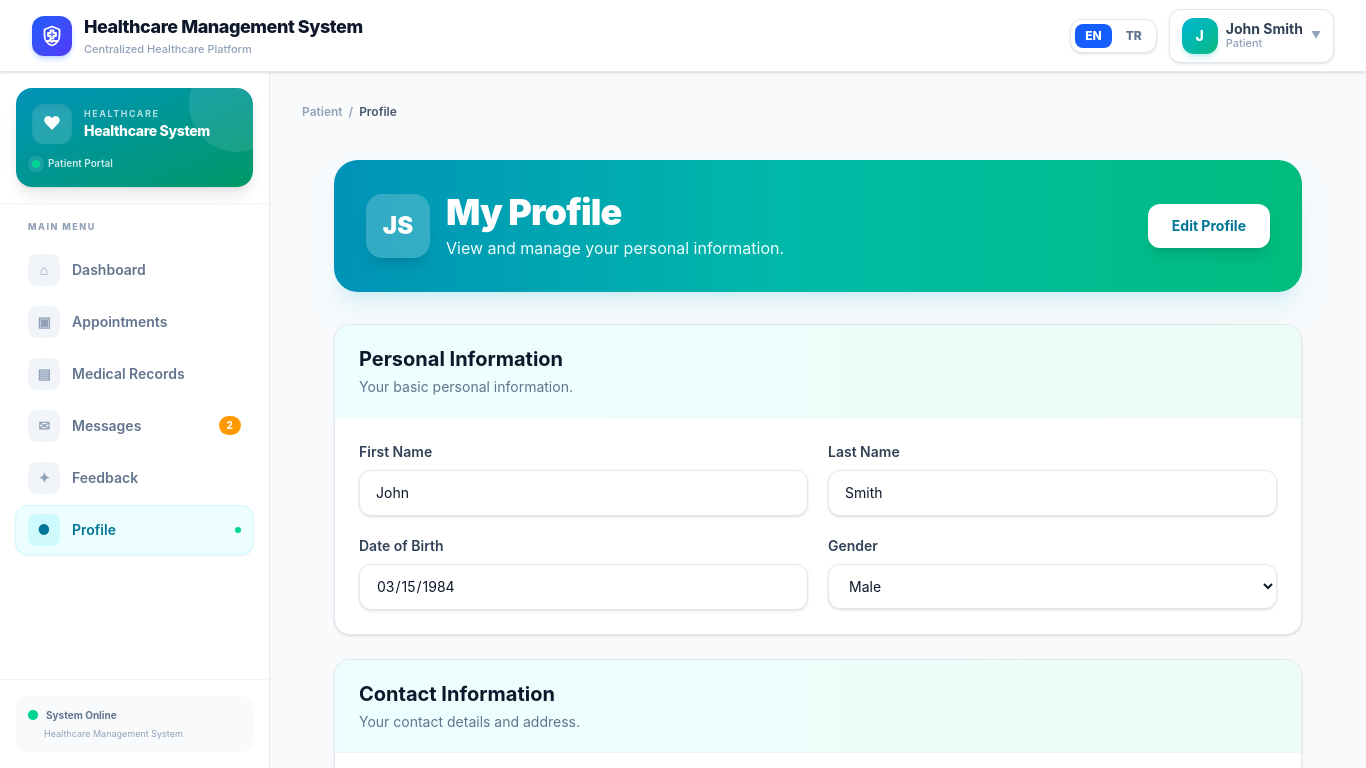
W114 loading, empty, success and error states › shows inline errors for invalid profile data
Click the button "Edit Profile": (1209,226) [1148, 204, 1270, 248]
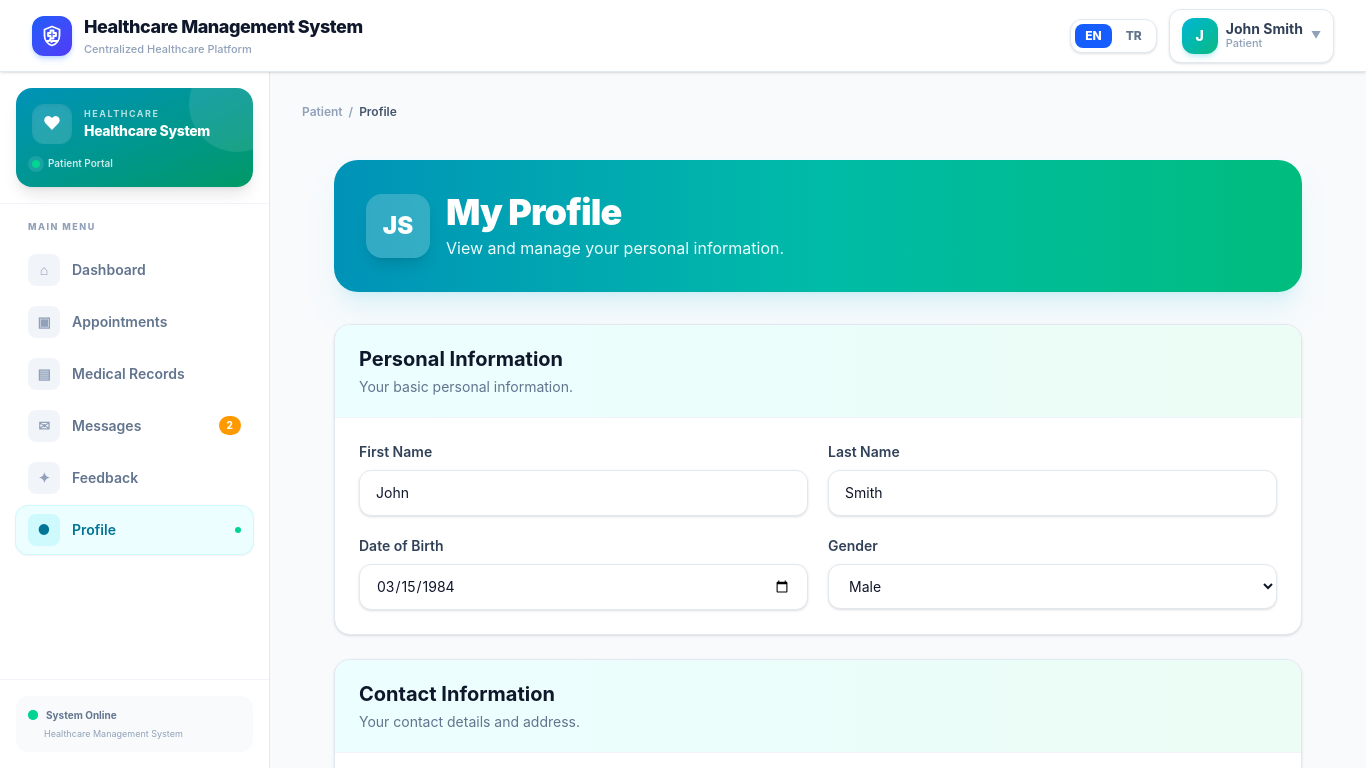
Clear the field labelled "First Name": (584,493) [359, 470, 808, 516]
(page scrolled)
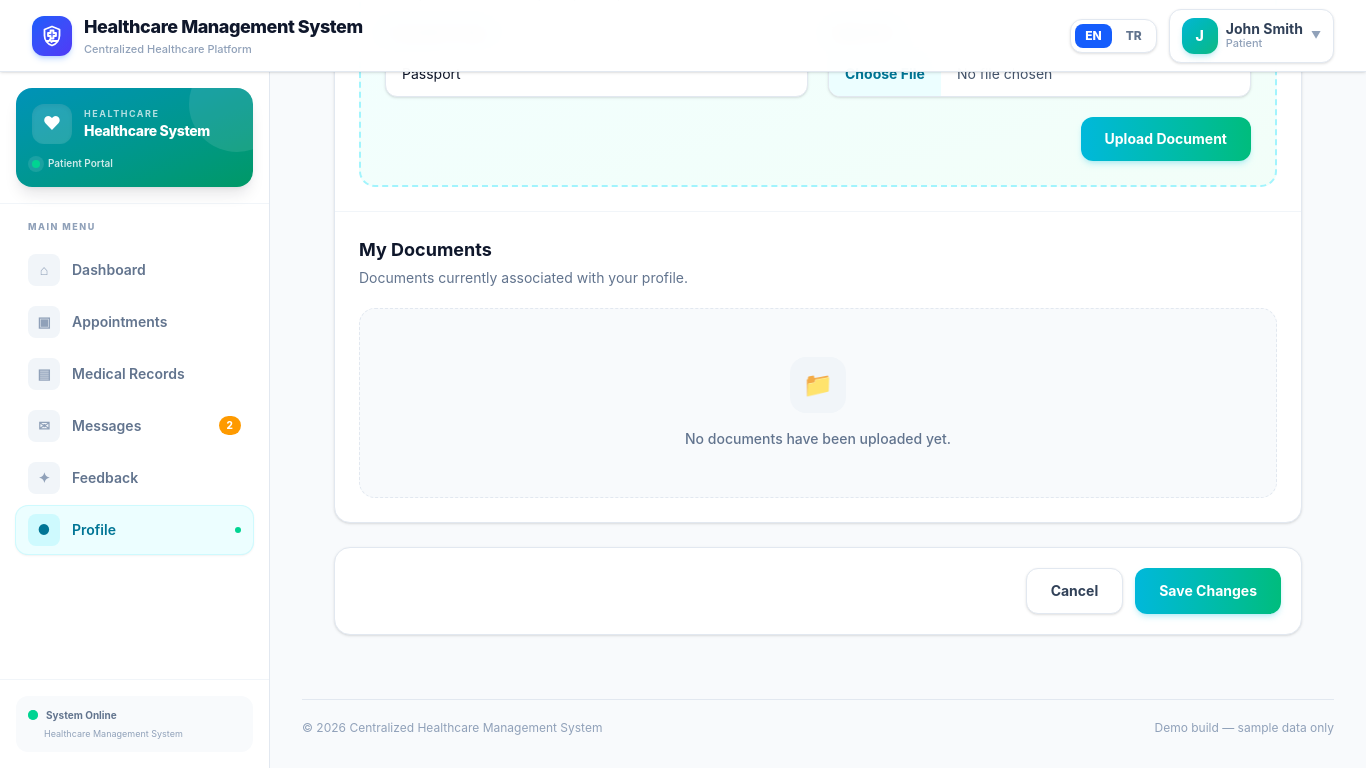
Click the button "Save Changes": (1208,591) [1135, 568, 1281, 614]
(page scrolled)
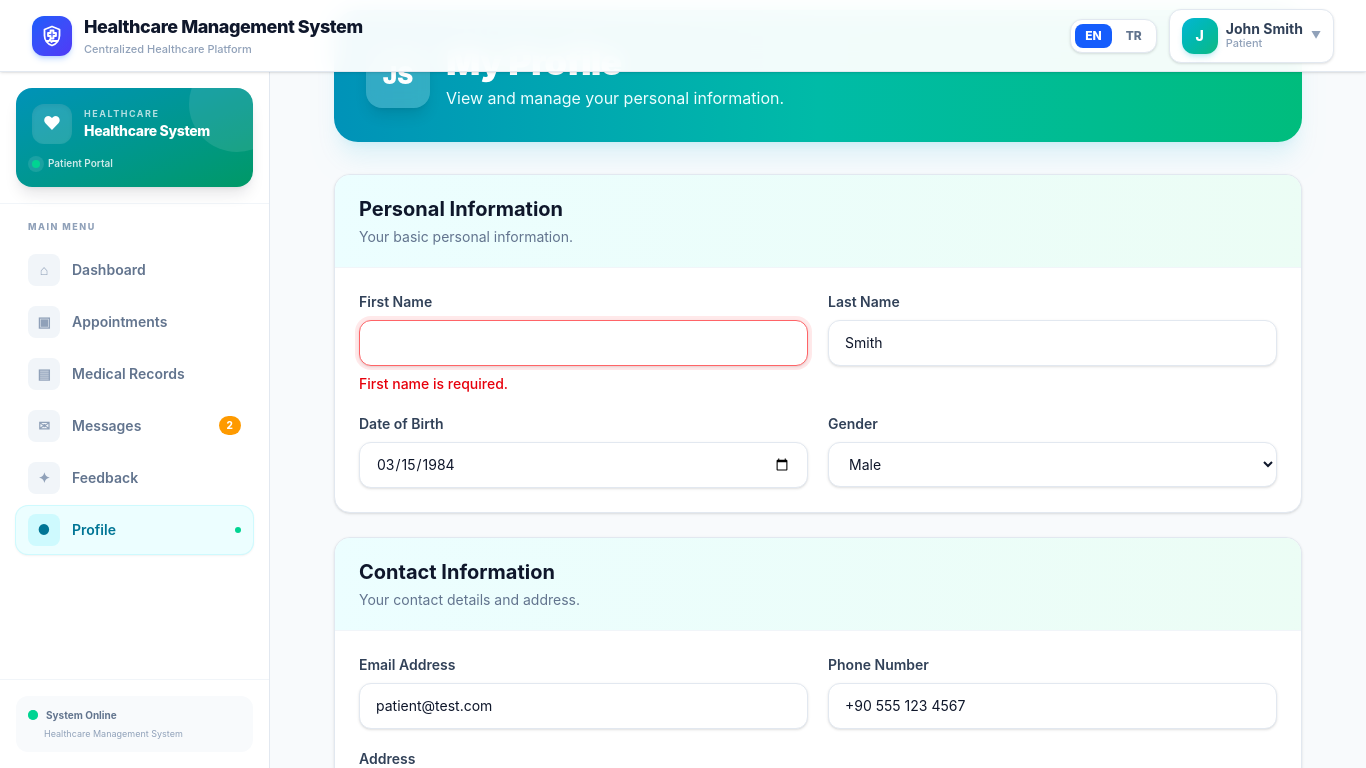
Expected: the text "First name is required." is shown, [359, 375, 508, 392]
